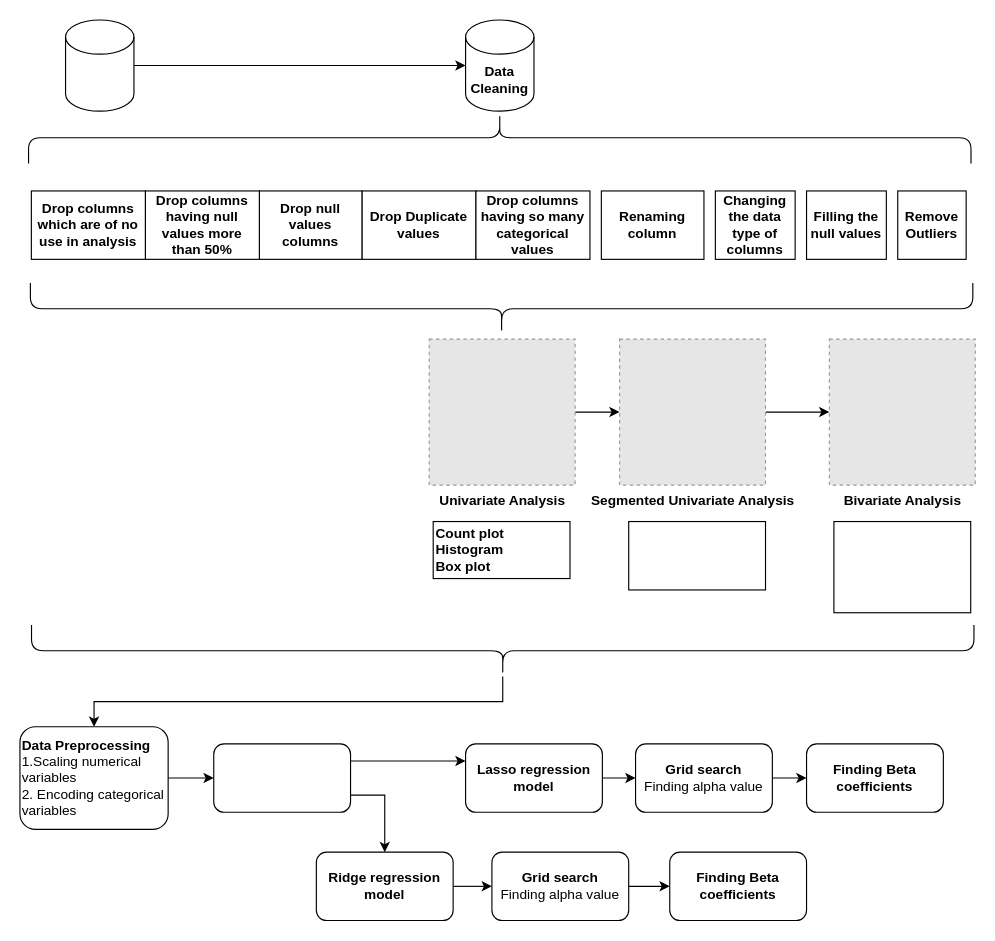
The diagram is 995 pixels wide and 941 high, and some of its shapes have lost their labels. Grey dashed boxes stand in for pictures. The shapes that lost their labels are listed below. From the top down, each one's centre as x and y in pixels, then its label:
At [99,65]: "Raw Data".
At [697,555]: "Categorical plots with a derived metrics (default rate)".
At [902,566]: "Scatter plot Multiple Categorical graph with numerical columns Pair plot".
At [282,777]: "Modeling".
